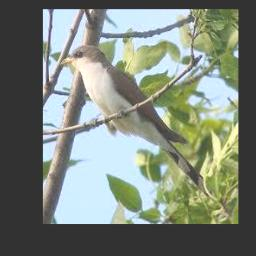Cuckoo: (60, 45, 213, 198)
